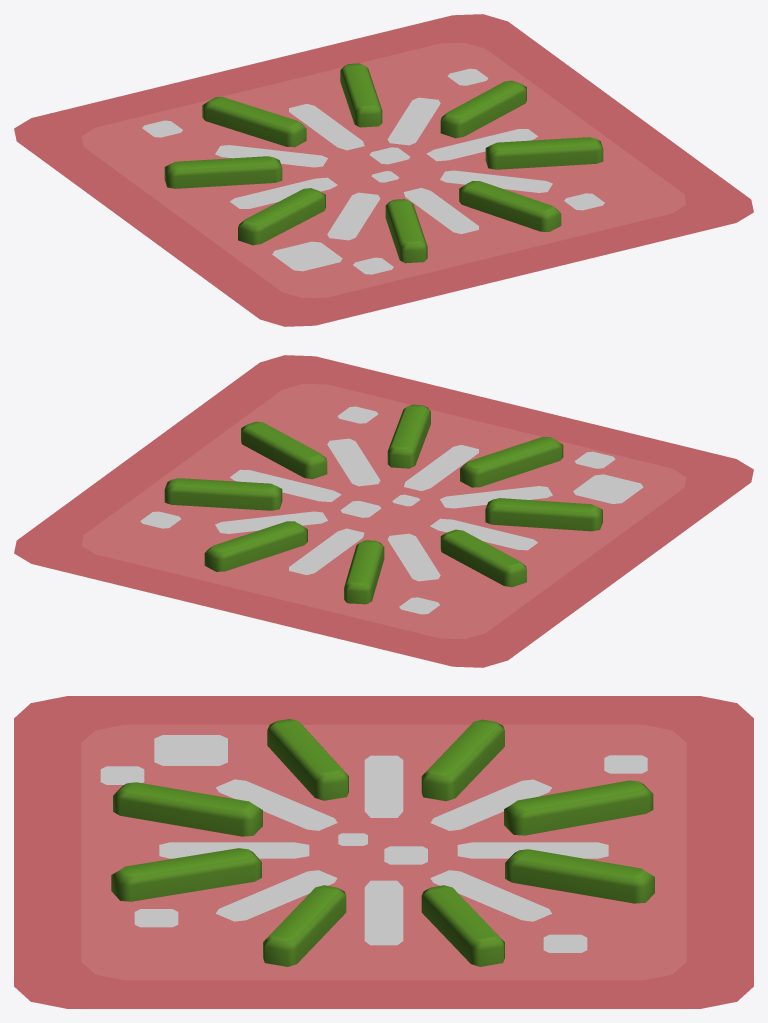
Rendered from BC_cookrecipe_11.fbx.
The picture shows the model from 3 angles, top to bottom: view 1: azimuth 30°, elevation 25°; view 2: azimuth 150°, elevation 25°; view 3: azimuth 270°, elevation 25°; orthographic projection. The views are drawn at different scales.
Visible parts, largest first — view 1: base, green, red, yellow, boko; view 2: base, green, red, yellow, boko; view 3: base, green, yellow, red, boko.
Boxes of the visible parts, <box> form: base: <box>14,14,753,326</box>; green: <box>164,63,603,263</box>; red: <box>230,104,537,234</box>; yellow: <box>215,97,552,240</box>; boko: <box>142,68,604,274</box>; base: <box>14,355,753,667</box>; green: <box>164,404,602,604</box>; red: <box>230,445,537,574</box>; yellow: <box>215,438,552,581</box>; boko: <box>140,406,643,614</box>; base: <box>14,696,753,1008</box>; green: <box>111,719,654,966</box>; yellow: <box>216,779,551,921</box>; red: <box>159,755,608,945</box>; boko: <box>100,735,647,952</box>.
Size of the model in its own units: 3.5 by 0.1438 by 3.5.
